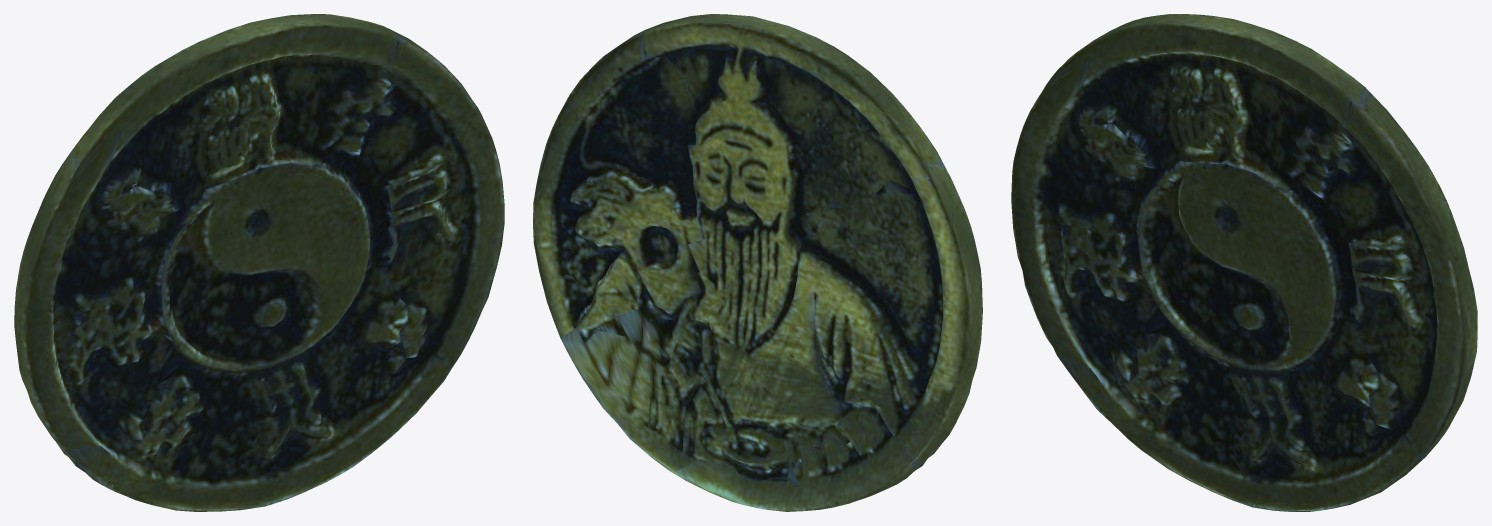
The model's file is item.currency.lumen_coin.glb.
3 views of the same model, side by side, from view 1: azimuth 30°, elevation 25°; view 2: azimuth 150°, elevation 25°; view 3: azimuth 330°, elevation 25° (orthographic). The views are drawn at different scales.
Parts seen in each view (by area): view 1: chinese_coin; view 2: chinese_coin; view 3: chinese_coin.
Boxes of the visible parts, <box> form: chinese_coin: <box>14,14,504,511</box>; chinese_coin: <box>533,14,982,511</box>; chinese_coin: <box>1011,14,1477,511</box>.
Bounding box in the file's own units: 1.2 × 1.19 × 0.1535.
Materials: 1 (1 with a texture image).
